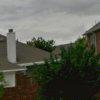Chimney: (3, 24, 27, 75)
